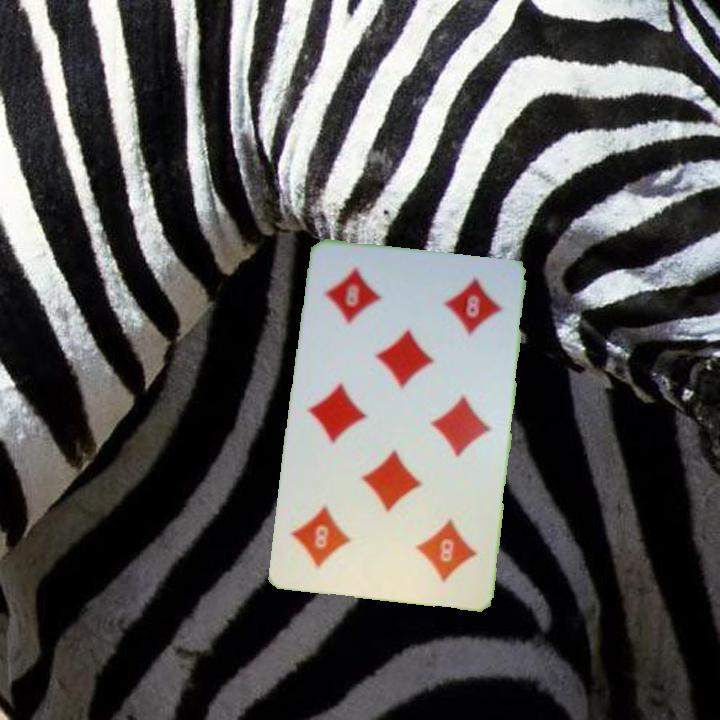d_8.png: (311, 254, 420, 350), (378, 499, 486, 595)
